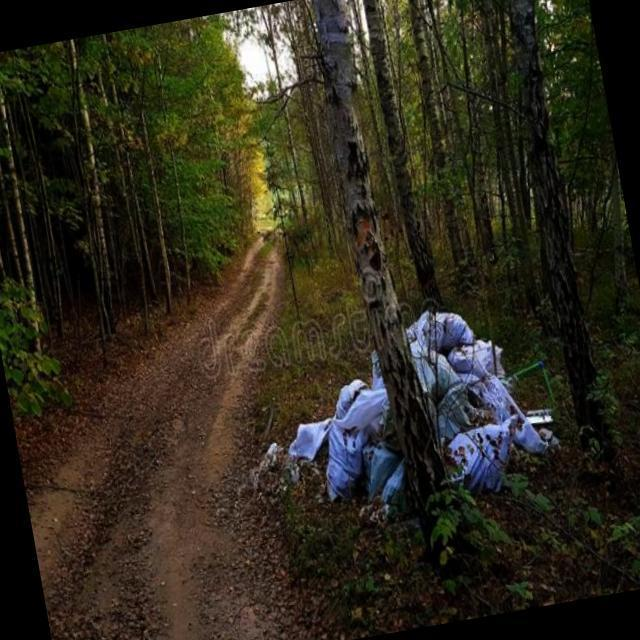garbage: (260, 287, 568, 544)
